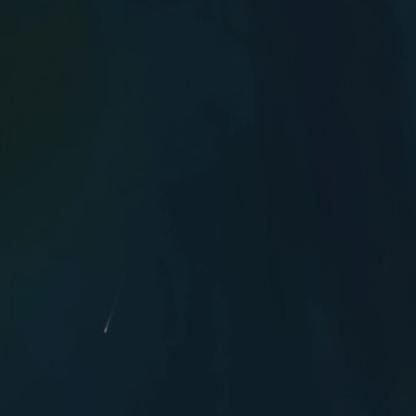ship: (96, 320, 113, 342)
